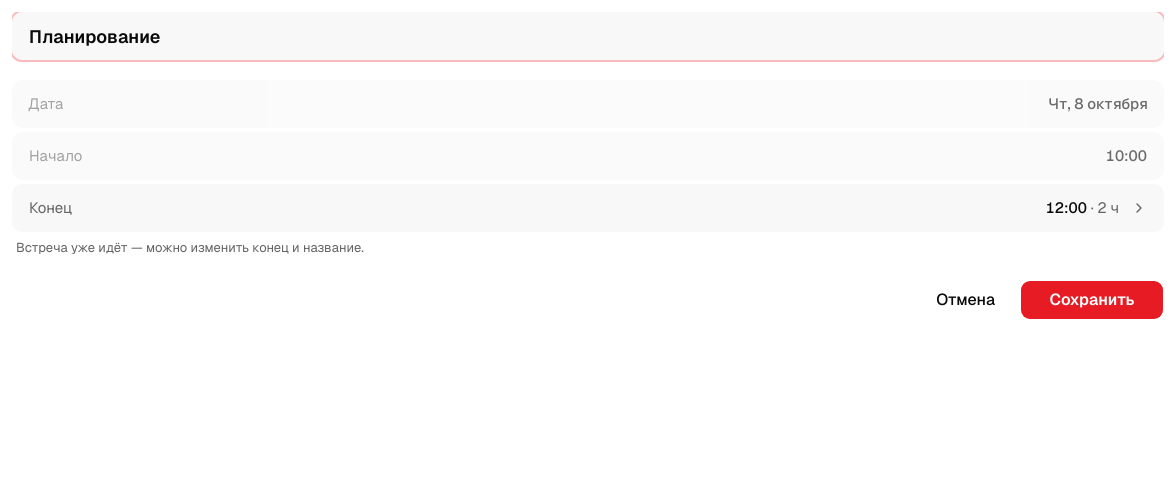
Test: QuickBookingForm — ongoing booking conflict › suggests only a shorter end, never a new start
Click the button "Сохранить".
click(1092, 300)  # box left=1020, top=280, right=1164, bottom=320
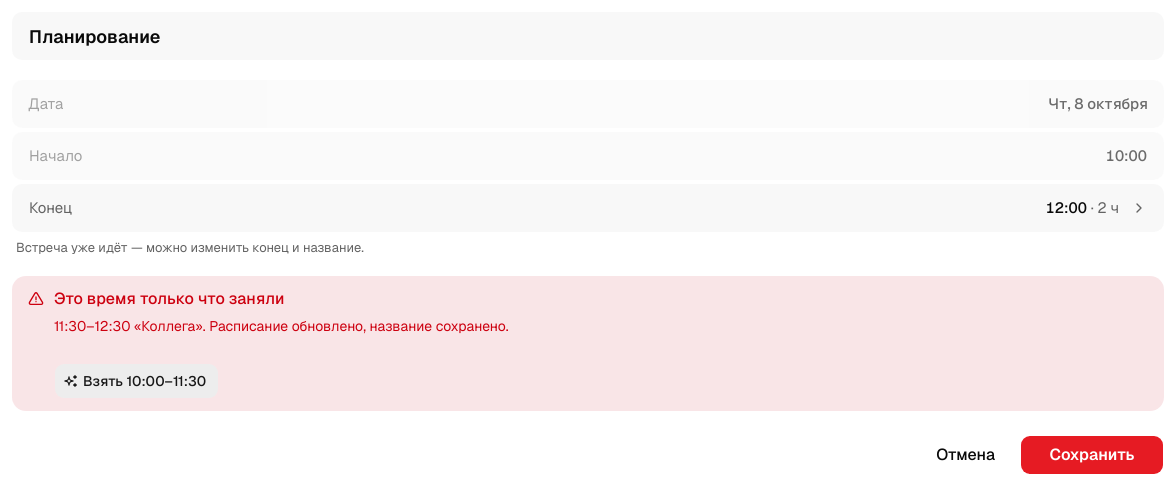
Click the button "Взять 10:00–11:30".
click(137, 381)  # box left=54, top=363, right=219, bottom=399
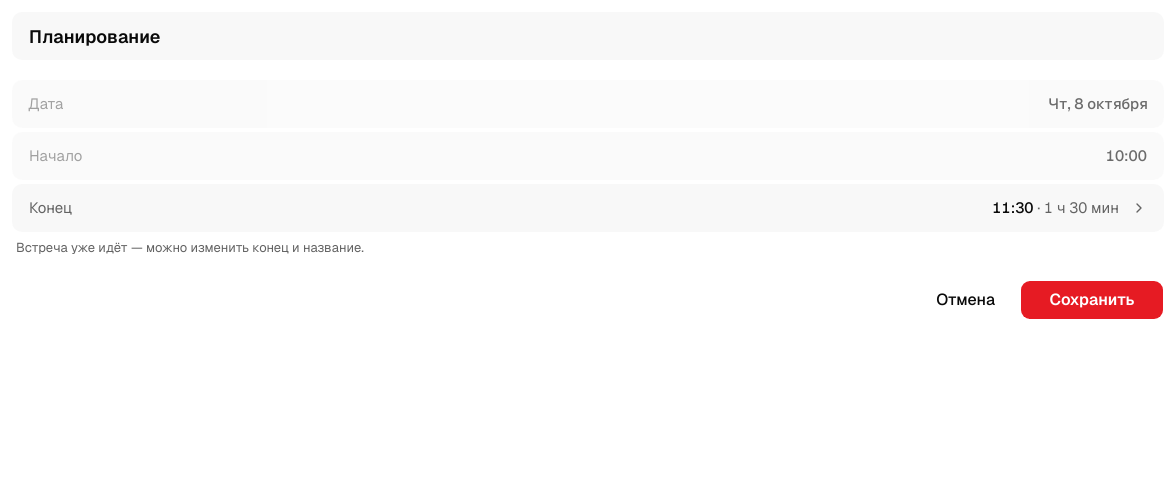
Expected: the dropdown labelled "Начало" shows "10:00", left=12, top=132, right=1164, bottom=180
Expected: the dropdown labelled "Конец" shows "11:30", left=12, top=184, right=1164, bottom=232
